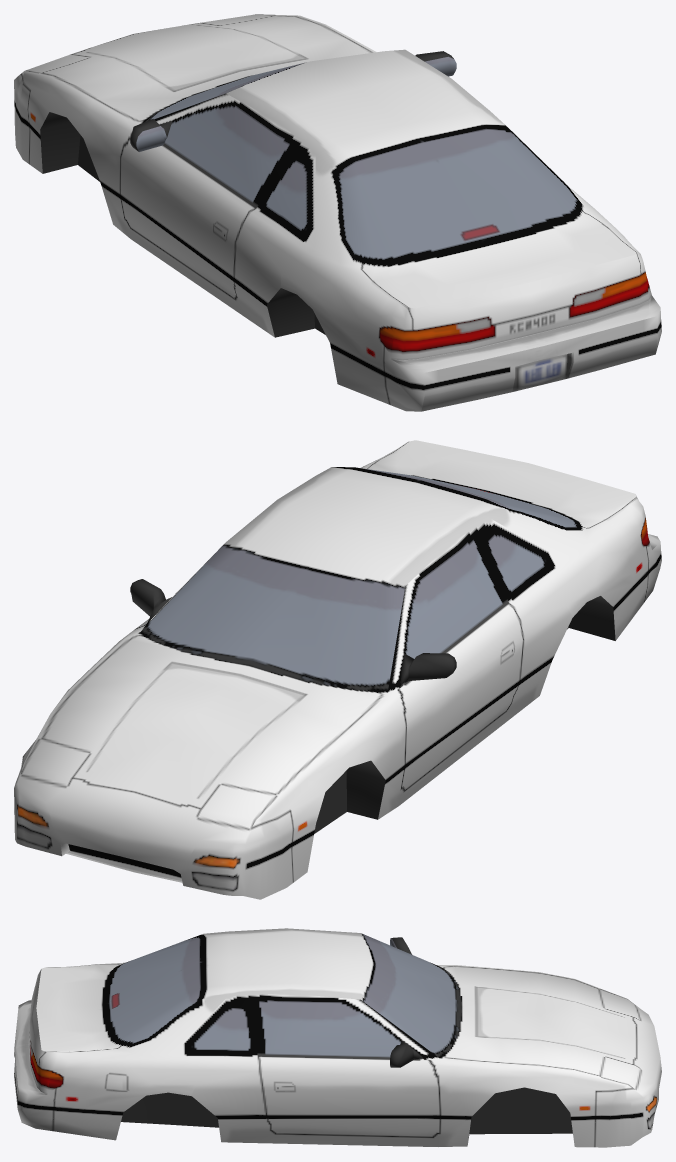
Rendered from vehicles_fhqonevia_noexh.fbx.
3 views of the same model, one above another, from view 1: azimuth 30°, elevation 25°; view 2: azimuth 150°, elevation 25°; view 3: azimuth 270°, elevation 25° (orthographic). The views are drawn at different scales.
Visible parts, largest first — view 1: fhqusdmS13; view 2: fhqusdmS13; view 3: fhqusdmS13.
Boxes of the visible parts, x1,y1,x2,y2 form: fhqusdmS13: [14, 14, 661, 411]; fhqusdmS13: [14, 440, 661, 899]; fhqusdmS13: [14, 928, 661, 1147].
Bounding box in the file's own units: 2.43 × 1.37 × 5.56.
